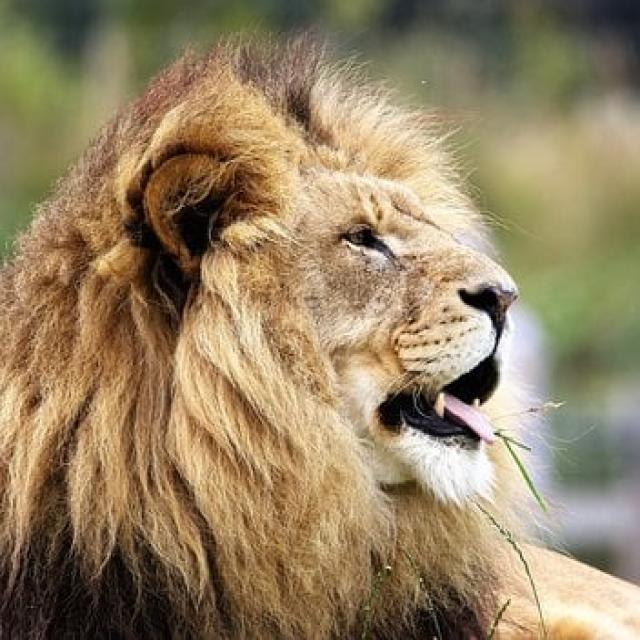Lion: (0, 38, 636, 638)
